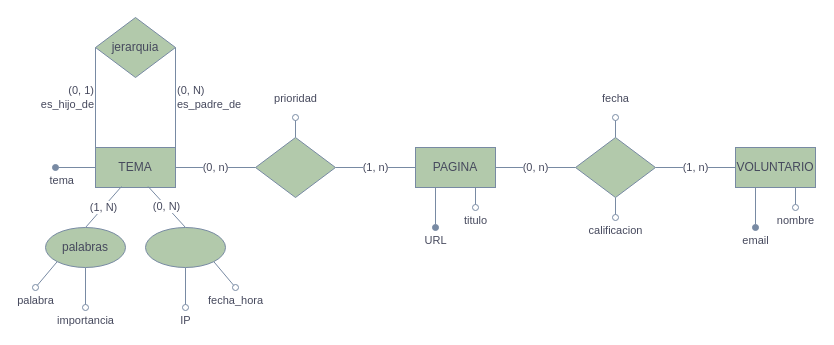
Some shapes in this 834 by 345 pixel diagram are drawn without their labels. Each missing label, with the centre of its shape:
consultas: the point at 185,247
contiene: the point at 295,167
evalua: the point at 615,167
